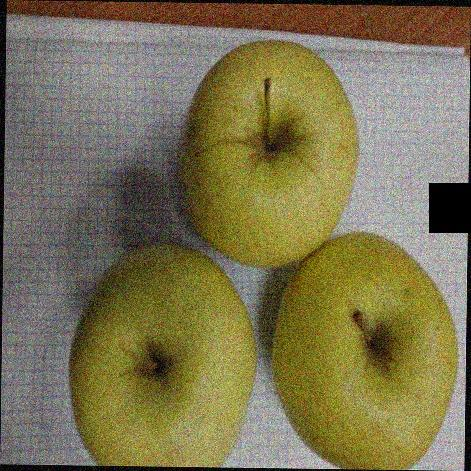green apple: (273, 230, 460, 470), (66, 244, 257, 467), (179, 39, 360, 273)
